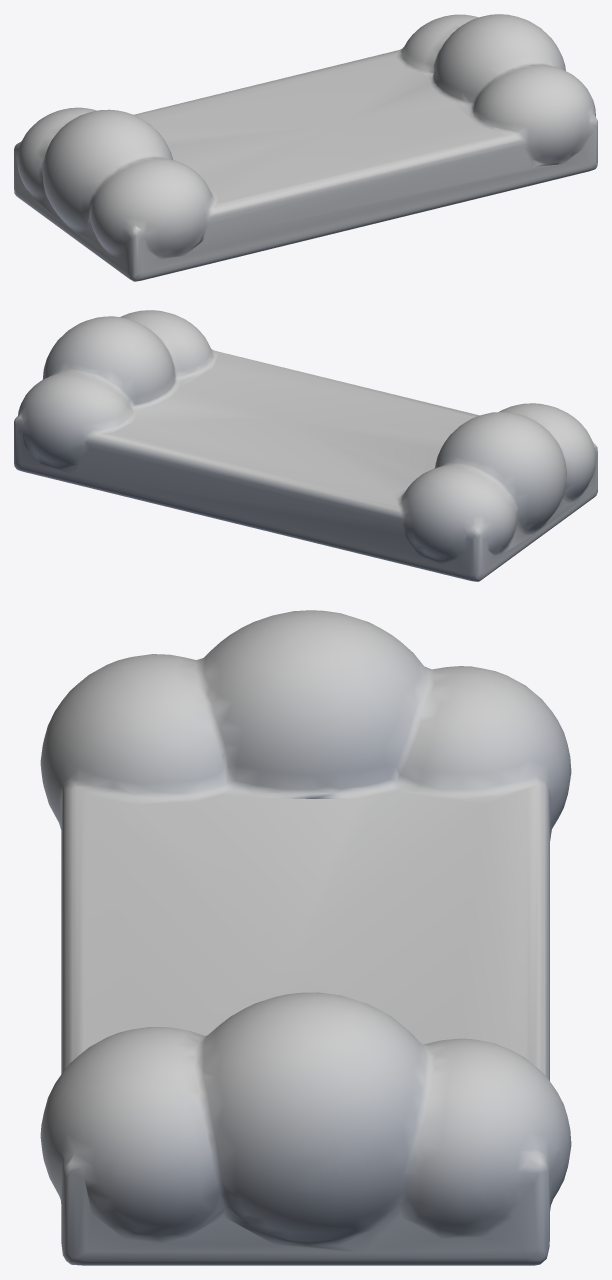
Rendered from Plank_Puffwood.glb.
3 views of the same model, one above another, from view 1: azimuth 30°, elevation 25°; view 2: azimuth 150°, elevation 25°; view 3: azimuth 270°, elevation 25° (orthographic). The views are drawn at different scales.
Parts seen in each view (by area): view 1: Plank_puffwood; view 2: Plank_puffwood; view 3: Plank_puffwood.
Boxes of the visible parts, <box> form: Plank_puffwood: <box>14,14,597,281</box>; Plank_puffwood: <box>14,310,597,581</box>; Plank_puffwood: <box>40,610,571,1265</box>.
Size of the model in its own units: 1.34 by 0.2944 by 0.6083.
